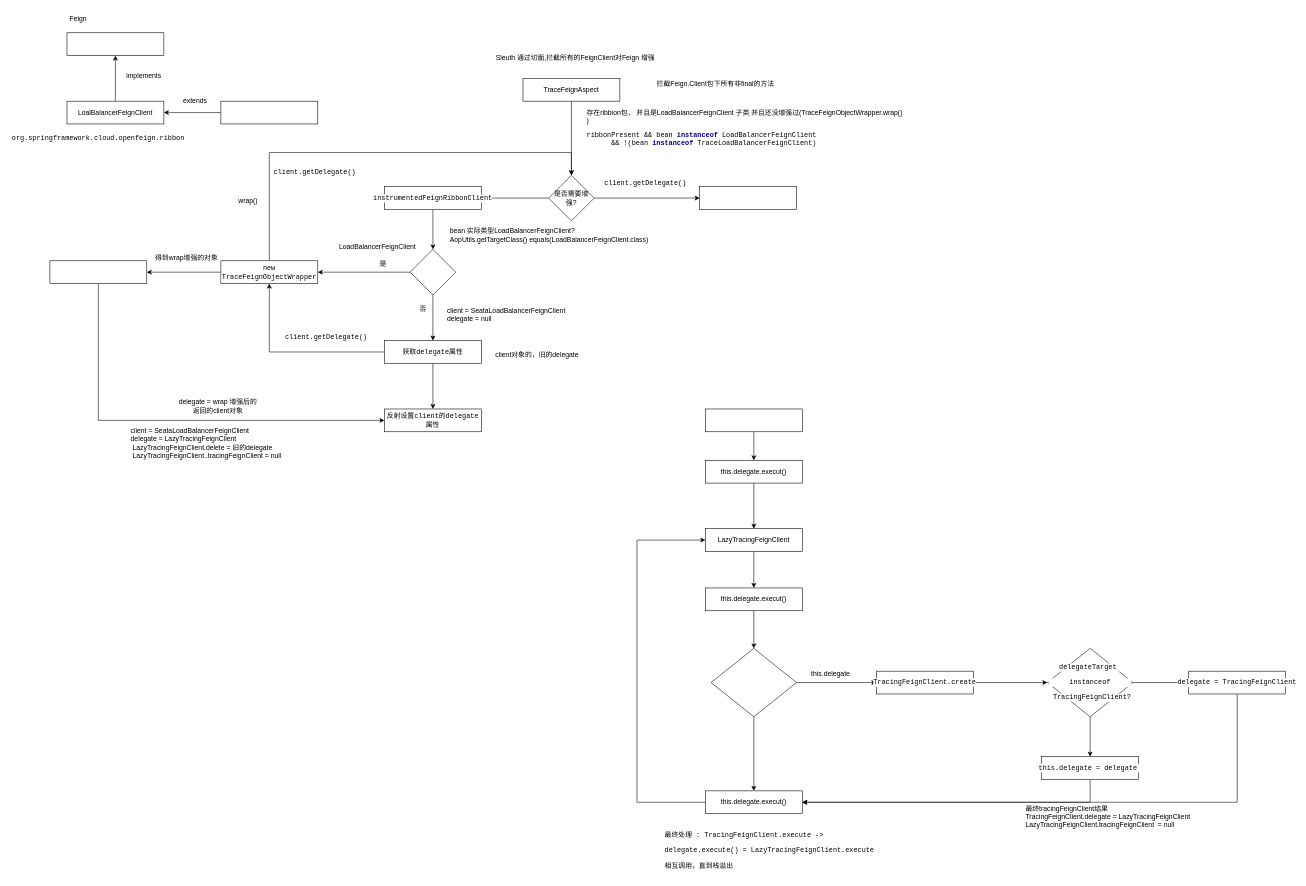
Image size: 1306x886. Some labels were removed from this diagram. The centre of each missing label's shape, as x and y in pixels:
Client: (115,44)
new LazyTracingFeignClient: (748,197)
new TraceLoadBalancerFeignClient: (98,272)
SeataLoalBalancerFeignClient: (269,112)
SeateLoadBalancerFeignClient: (753,420)
traceingFeignClient == null？: (754,682)
类型判断: (433,272)
